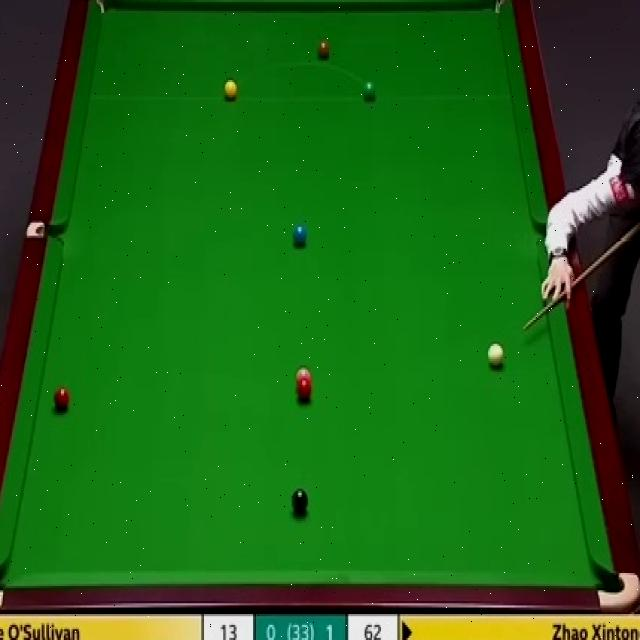black-ball: (291, 488, 309, 517)
blue-ball: (292, 224, 308, 248)
brown-ball: (317, 41, 330, 62)
green-ball: (362, 80, 376, 102)
pink-ball: (295, 367, 312, 383)
red-ball: (52, 384, 70, 414), (296, 380, 313, 402)
white-ball: (487, 342, 504, 368)
yellow-ball: (224, 80, 238, 102)
